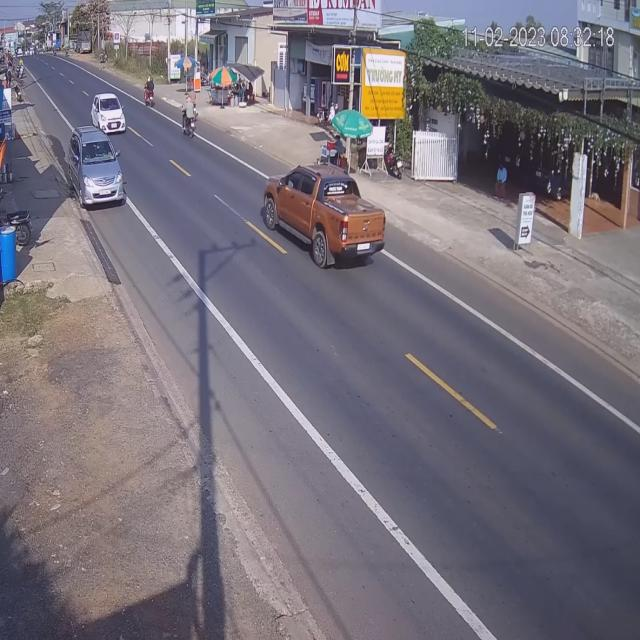car: (263, 161, 387, 270), (67, 128, 125, 210), (92, 92, 126, 135)
motorbike: (184, 100, 201, 142), (144, 76, 155, 109)
